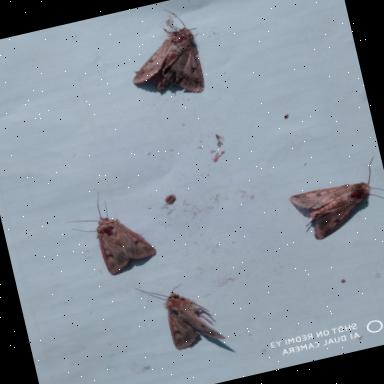abw: (60, 182, 160, 283), (118, 2, 212, 107), (284, 153, 384, 244), (136, 270, 226, 356)
